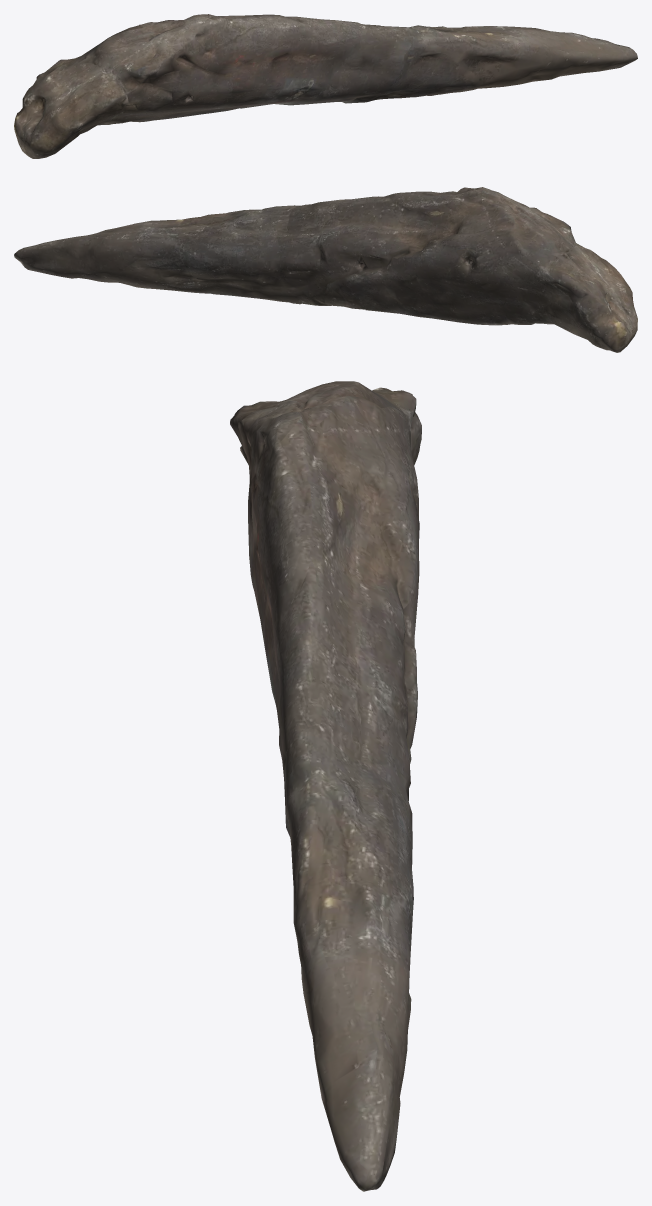
The model's file is stegosaurus-spike.glb.
3 views of the same model, one above another, from view 1: azimuth 30°, elevation 25°; view 2: azimuth 150°, elevation 25°; view 3: azimuth 270°, elevation 25° (orthographic). The views are drawn at different scales.
Visible parts, largest first — view 1: Stegosaurus_stenops_Marsh__1887-unwrapped-webmulti; view 2: Stegosaurus_stenops_Marsh__1887-unwrapped-webmulti; view 3: Stegosaurus_stenops_Marsh__1887-unwrapped-webmulti.
Boxes of the visible parts, x1,y1,x2,y2 form: Stegosaurus_stenops_Marsh__1887-unwrapped-webmulti: (14, 14, 637, 158); Stegosaurus_stenops_Marsh__1887-unwrapped-webmulti: (14, 187, 637, 352); Stegosaurus_stenops_Marsh__1887-unwrapped-webmulti: (230, 381, 421, 1191).
Size of the model in its own units: 0.3022 by 0.0809 by 0.0411.
1 material, 1 textured.
